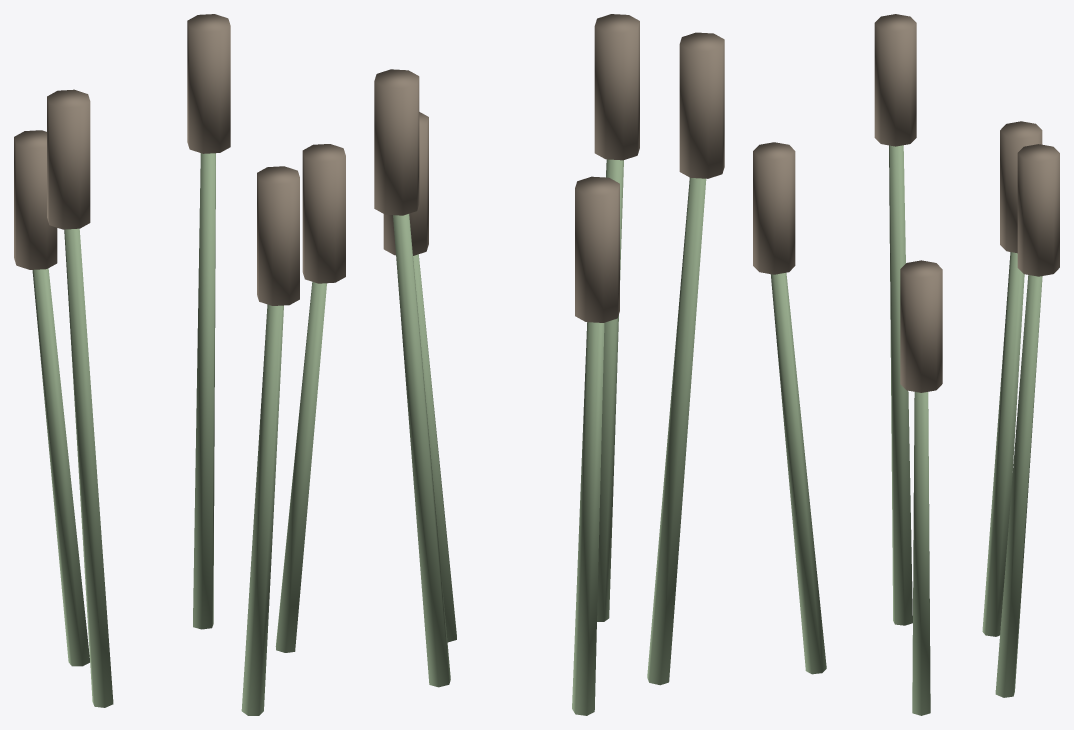
Rendered from Reeds_S70.fbx.
3 views of the same model, side by side, from view 1: azimuth 30°, elevation 25°; view 2: azimuth 150°, elevation 25°; view 3: azimuth 270°, elevation 25° (orthographic). The views are drawn at different scales.
Visible parts, largest first — view 1: Reeds_S70; view 2: Reeds_S70; view 3: Reeds_S70.
Part boxes in pixels (bbox=[...]): Reeds_S70: bbox=[14, 14, 345, 715]; Reeds_S70: bbox=[374, 14, 724, 715]; Reeds_S70: bbox=[753, 14, 1059, 715].
Size of the model in its own units: 55.62 by 50.85 by 107.
